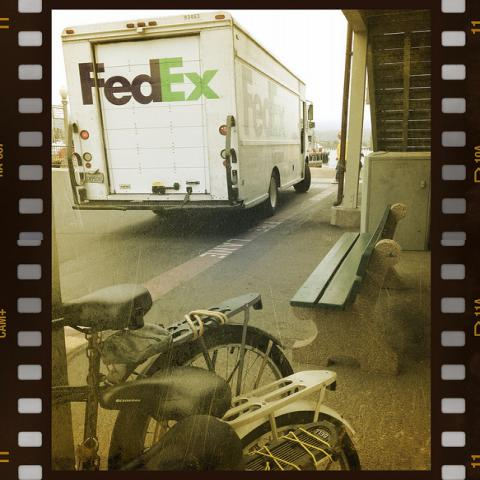truck: (61, 13, 312, 213)
